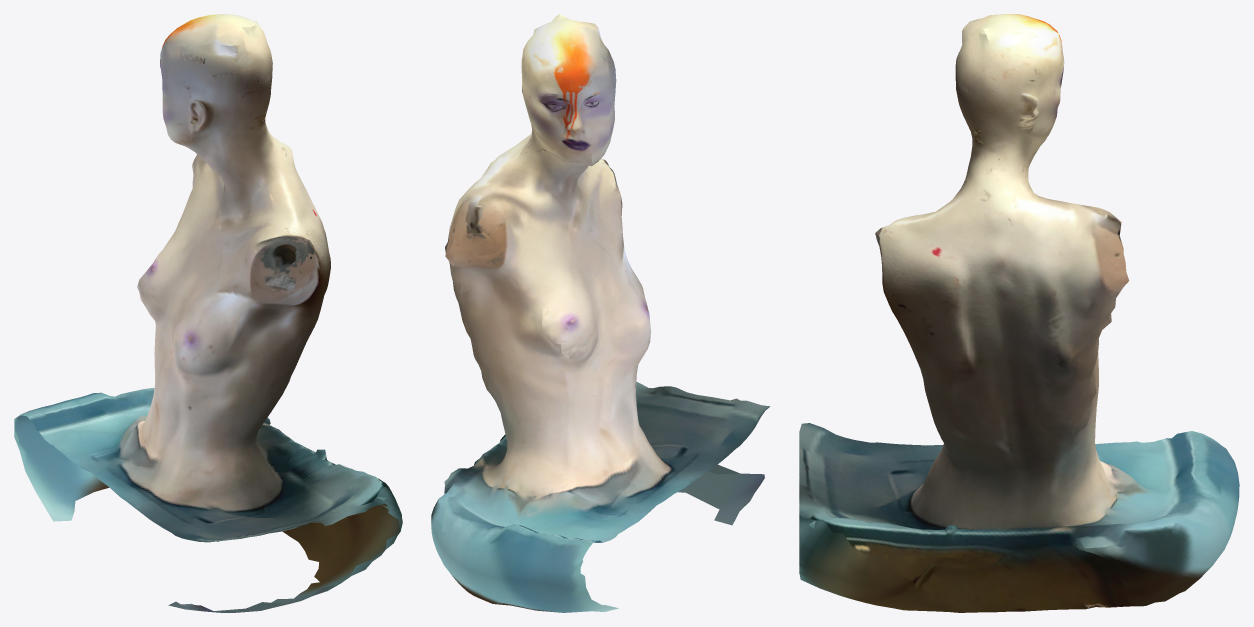
File: figurine_dcfac118.glb
3 views of the same model, side by side, from view 1: azimuth 30°, elevation 25°; view 2: azimuth 150°, elevation 25°; view 3: azimuth 270°, elevation 25° (orthographic). The views are drawn at different scales.
Parts seen in each view (by area): view 1: Object_2, Object_3; view 2: Object_2, Object_3; view 3: Object_2, Object_3.
Boxes of the visible parts, x1=… form: Object_2: x1=14, y1=14, x2=402, y2=612; Object_3: x1=32, y1=42, x2=386, y2=538; Object_2: x1=431, y1=14, x2=770, y2=612; Object_3: x1=436, y1=53, x2=738, y2=550; Object_2: x1=799, y1=14, x2=1239, y2=612; Object_3: x1=799, y1=373, x2=1221, y2=587.
Bounding box in the file's own units: 0.3572 × 0.8605 × 0.6038.
2 materials, 2 textured.
